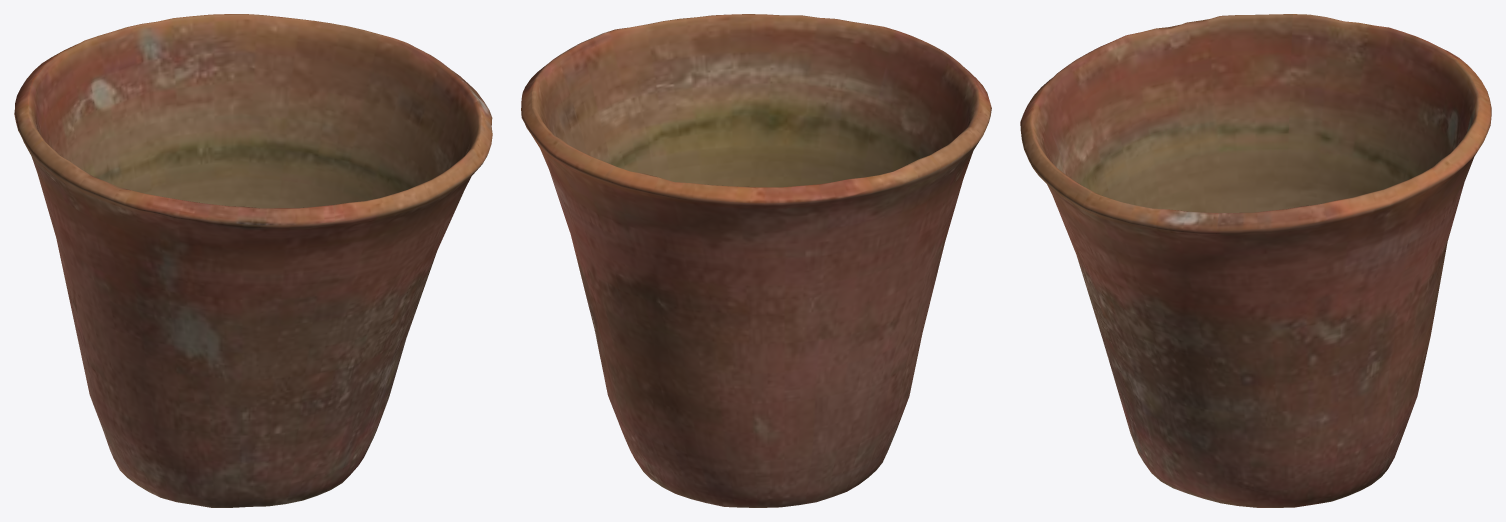
The model's file is polyhaven-planter_pot_clay.glb.
The picture shows the model from 3 angles, left to right: view 1: azimuth 30°, elevation 25°; view 2: azimuth 150°, elevation 25°; view 3: azimuth 270°, elevation 25°; orthographic projection.
Visible parts, largest first — view 1: planter_pot_clay; view 2: planter_pot_clay; view 3: planter_pot_clay.
Part boxes in pixels (x1,y1,x2,y2): planter_pot_clay: (14, 14, 492, 507); planter_pot_clay: (521, 14, 991, 507); planter_pot_clay: (1020, 14, 1491, 507).
Bounding box in the file's own units: 0.6 × 0.5005 × 0.5943.
Materials: 1 (1 with a texture image).
